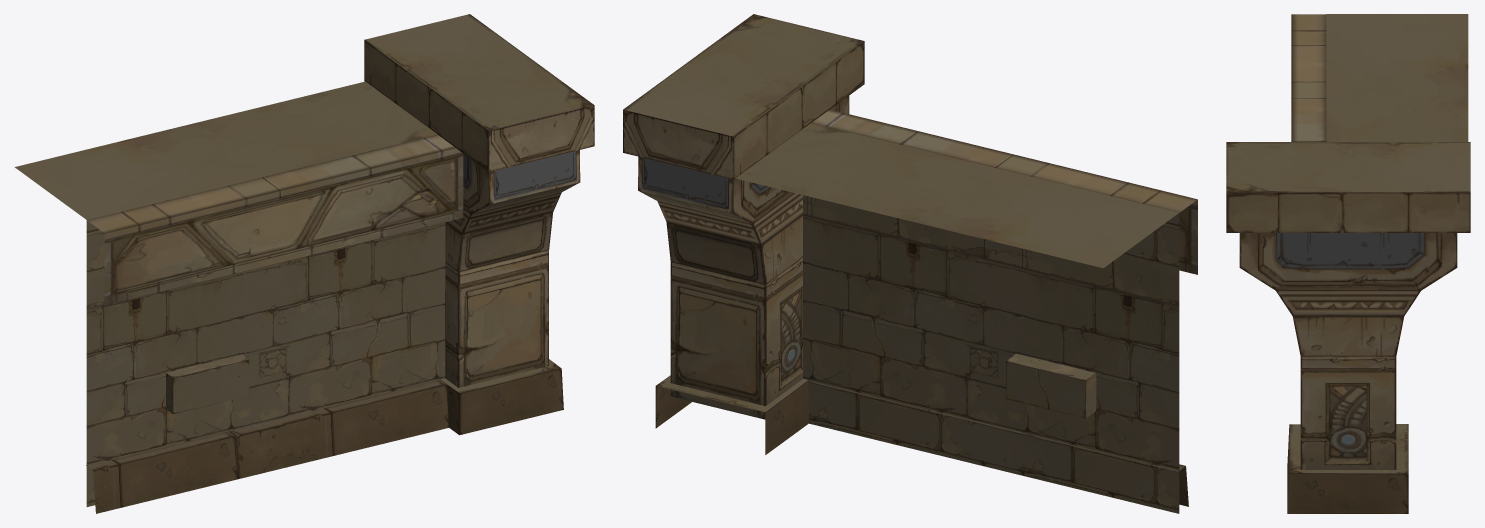
Rendered from 2_DG_QiangTi_01.FBX.
3 renders of one model, left to right at view 1: azimuth 30°, elevation 25°; view 2: azimuth 150°, elevation 25°; view 3: azimuth 270°, elevation 25°, orthographic. The views are drawn at different scales.
Parts seen in each view (by area): view 1: 2_DG_QiangTi_01, 2_DG_QiangDuo_01, 2_DG_FuDiao_01, 2_DG_QiangTi_01_02, 2_DG_QiangDuo_01_02, 2_DG_QiangZhuani_01; view 2: 2_DG_QiangTi_01, 2_DG_QiangDuo_01, 2_DG_FuDiao_01, 2_DG_QiangZhuani_01, 2_DG_QiangDuo_01_02, 2_DG_QiangTi_01_02; view 3: 2_DG_QiangDuo_01, 2_DG_QiangTi_01, 2_DG_QiangDuo_01_02, 2_DG_FuDiao_01.
Part boxes in pixels (box(x1,y1,x2,y2)): 2_DG_QiangTi_01: box(14, 81, 445, 506); 2_DG_QiangDuo_01: box(364, 14, 594, 387); 2_DG_FuDiao_01: box(87, 134, 463, 305); 2_DG_QiangTi_01_02: box(86, 380, 448, 513); 2_DG_QiangDuo_01_02: box(440, 359, 563, 435); 2_DG_QiangZhuani_01: box(166, 354, 249, 414); 2_DG_QiangTi_01: box(735, 123, 1179, 513); 2_DG_QiangDuo_01: box(623, 14, 864, 419); 2_DG_FuDiao_01: box(812, 109, 1197, 274); 2_DG_QiangZhuani_01: box(1006, 353, 1096, 418); 2_DG_QiangDuo_01_02: box(655, 375, 809, 454); 2_DG_QiangTi_01_02: box(807, 380, 1188, 506); 2_DG_QiangDuo_01: box(1226, 142, 1470, 469); 2_DG_QiangTi_01: box(1326, 14, 1468, 141); 2_DG_QiangDuo_01_02: box(1287, 424, 1408, 513); 2_DG_FuDiao_01: box(1291, 14, 1326, 141).
Bounding box in the file's own units: 1168 × 800 × 551.
